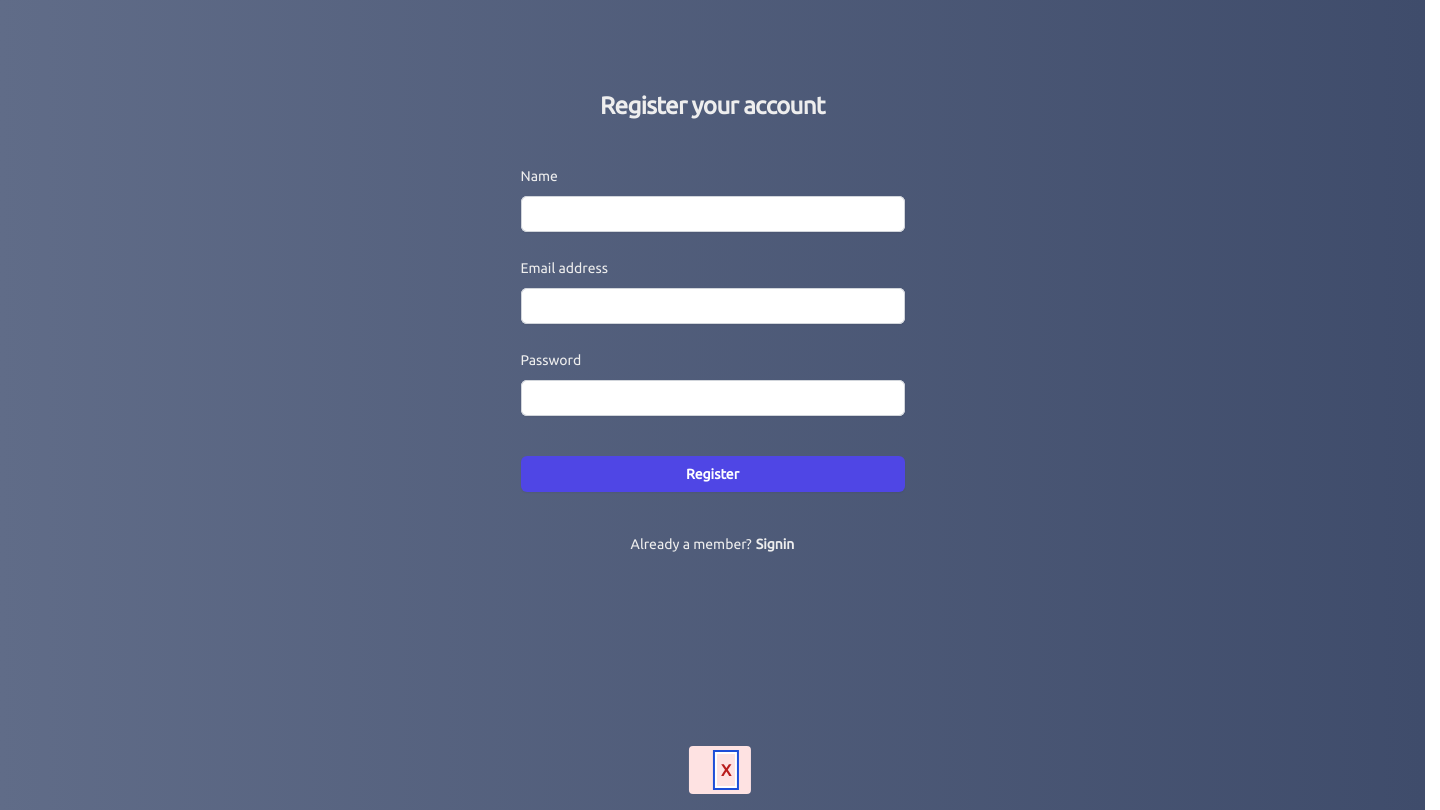
Test: Register component › displays error message on failed registration
Step 1. Type "TestUser" into the field labelled "Name" → (712, 214), box left=520, top=196, right=904, bottom=232
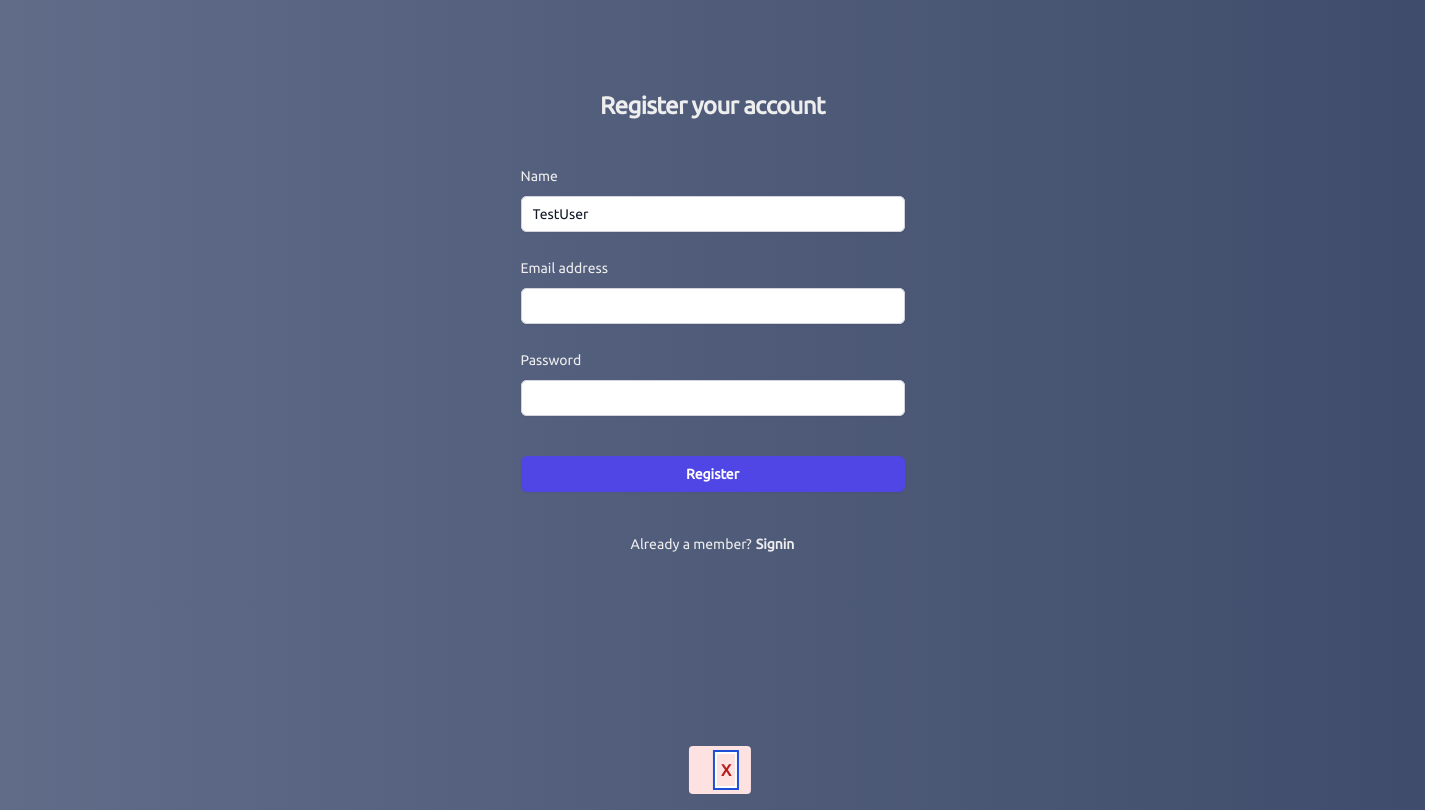
Step 2. Type "test@example.com" into the field labelled "Email address" → (712, 306), box left=520, top=288, right=904, bottom=324
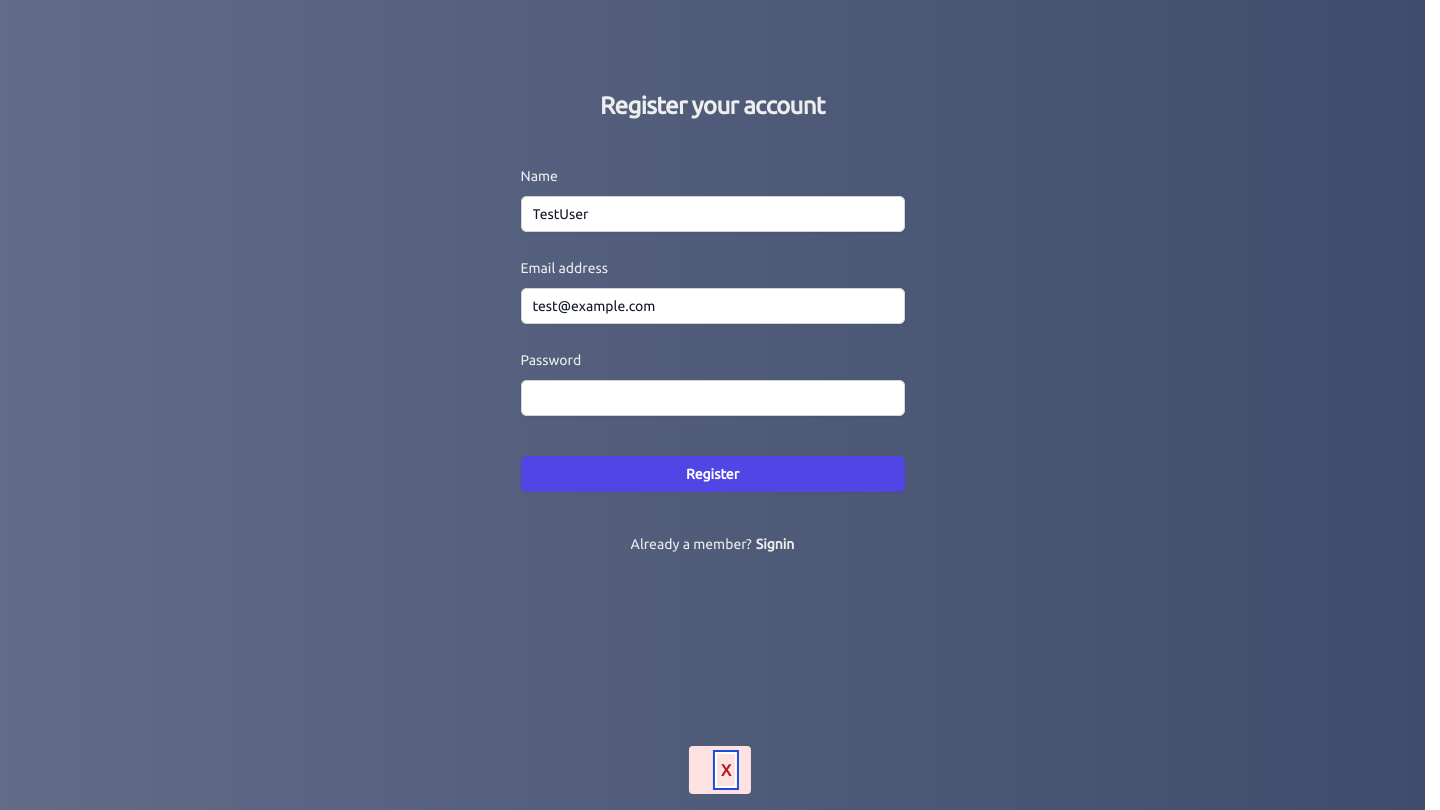
Step 3. Type "password123" into the password field labelled "Password" → (712, 398), box left=520, top=380, right=904, bottom=416
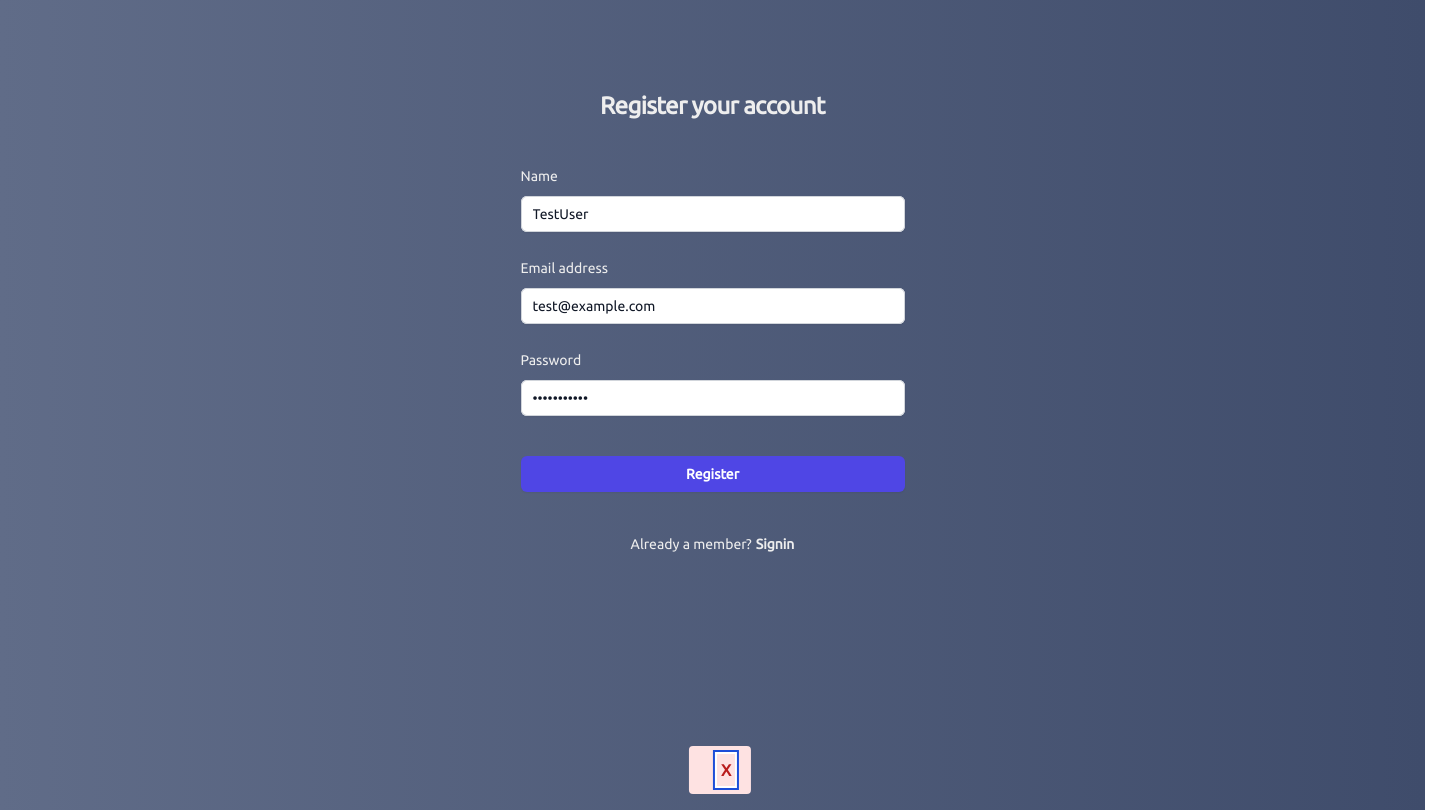
Step 4. Click the button with aria-label "create a new account" → (712, 474), box left=520, top=456, right=904, bottom=492
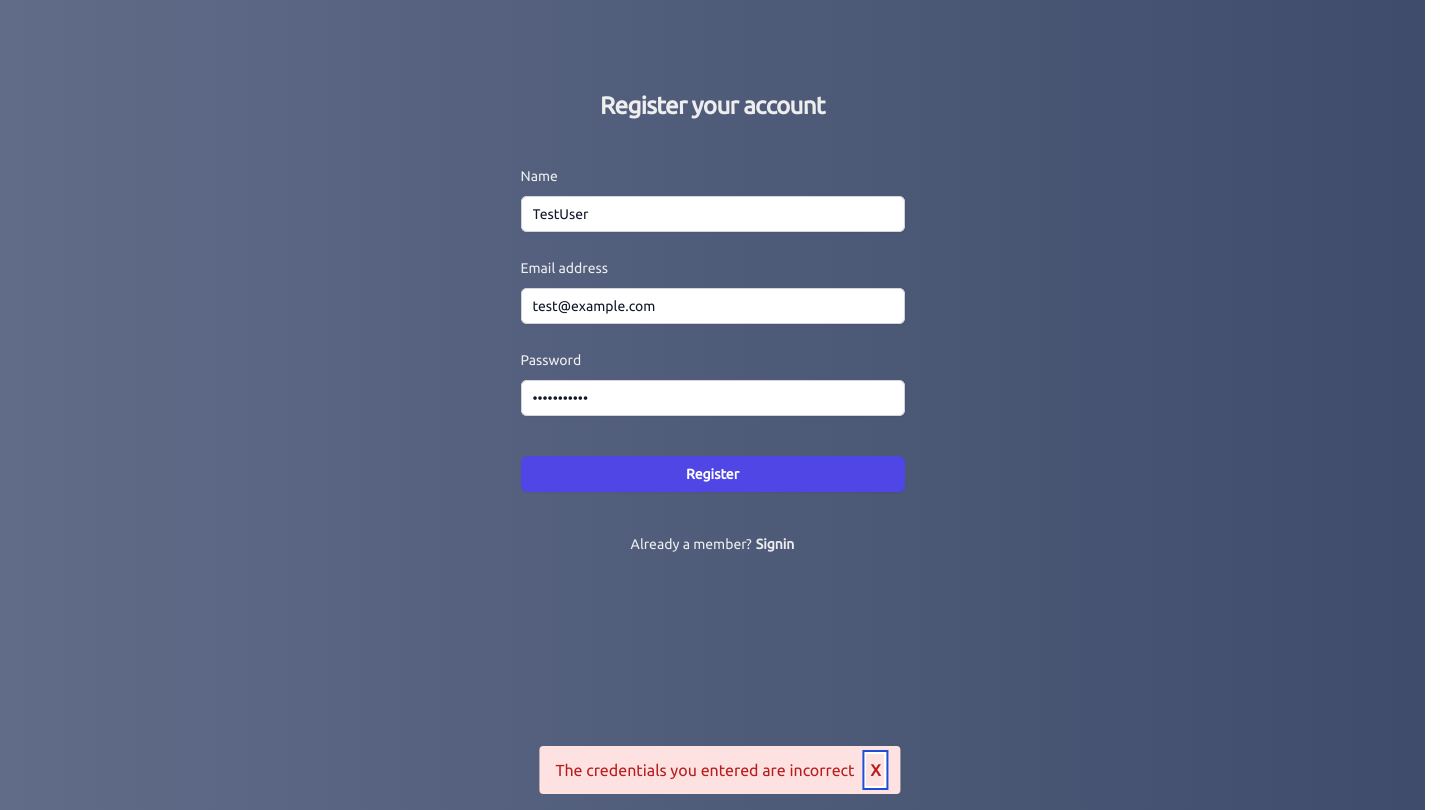
Now the text "The credentials you entered are incorrect" is shown, box left=555, top=758, right=854, bottom=782
